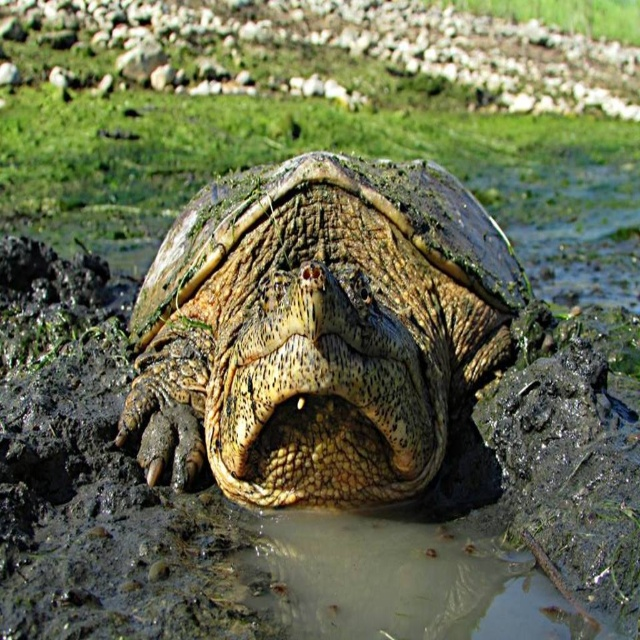Tortoise: (116, 152, 553, 513)
